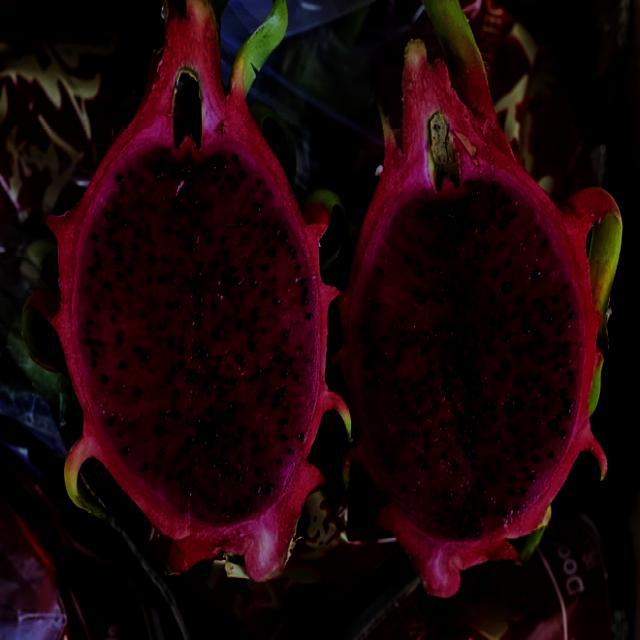do: (339, 66, 604, 590), (57, 70, 327, 576)
